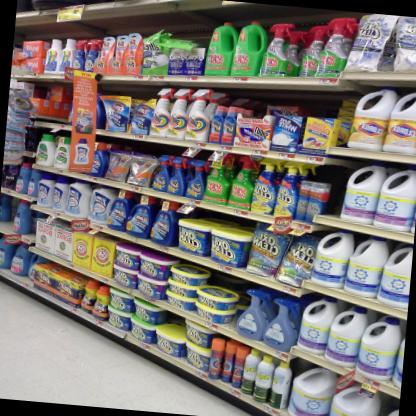empty_space: (320, 163, 353, 219), (0, 219, 17, 228)
